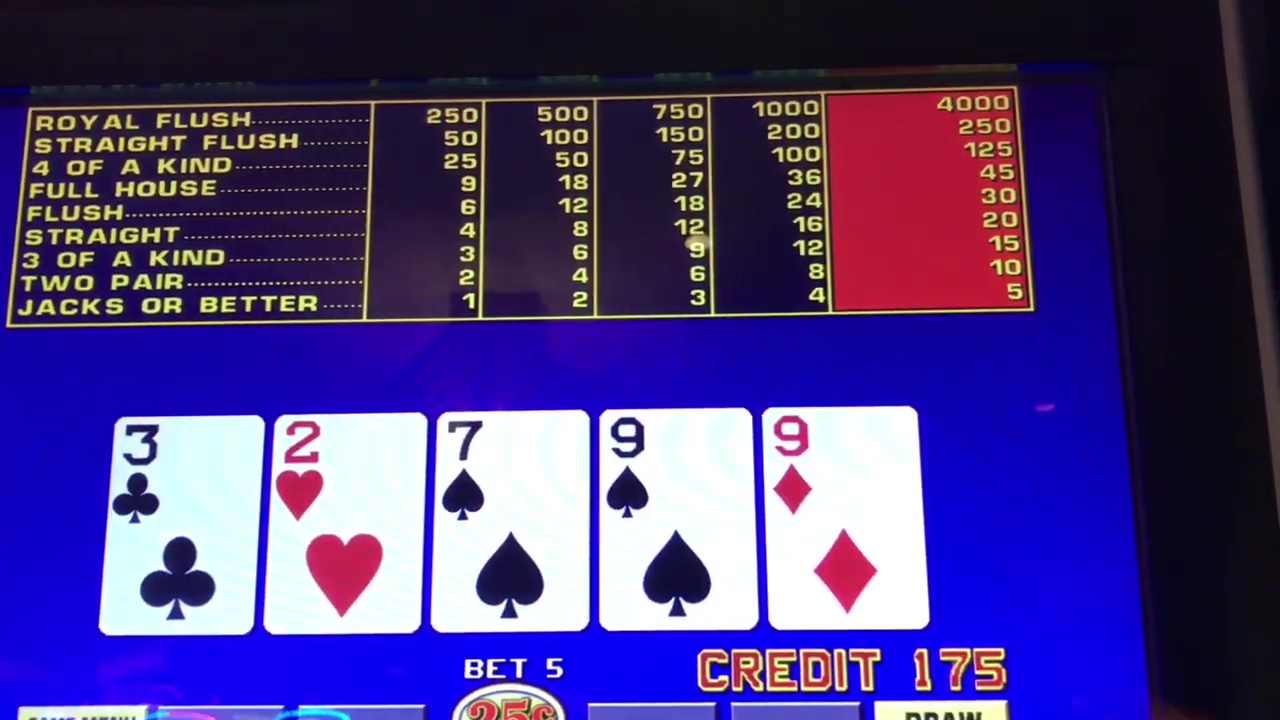C3: (115, 424, 247, 525)
D9: (768, 411, 917, 517)
H2: (278, 418, 416, 524)
S7: (435, 414, 582, 518)
S9: (604, 411, 753, 518)
